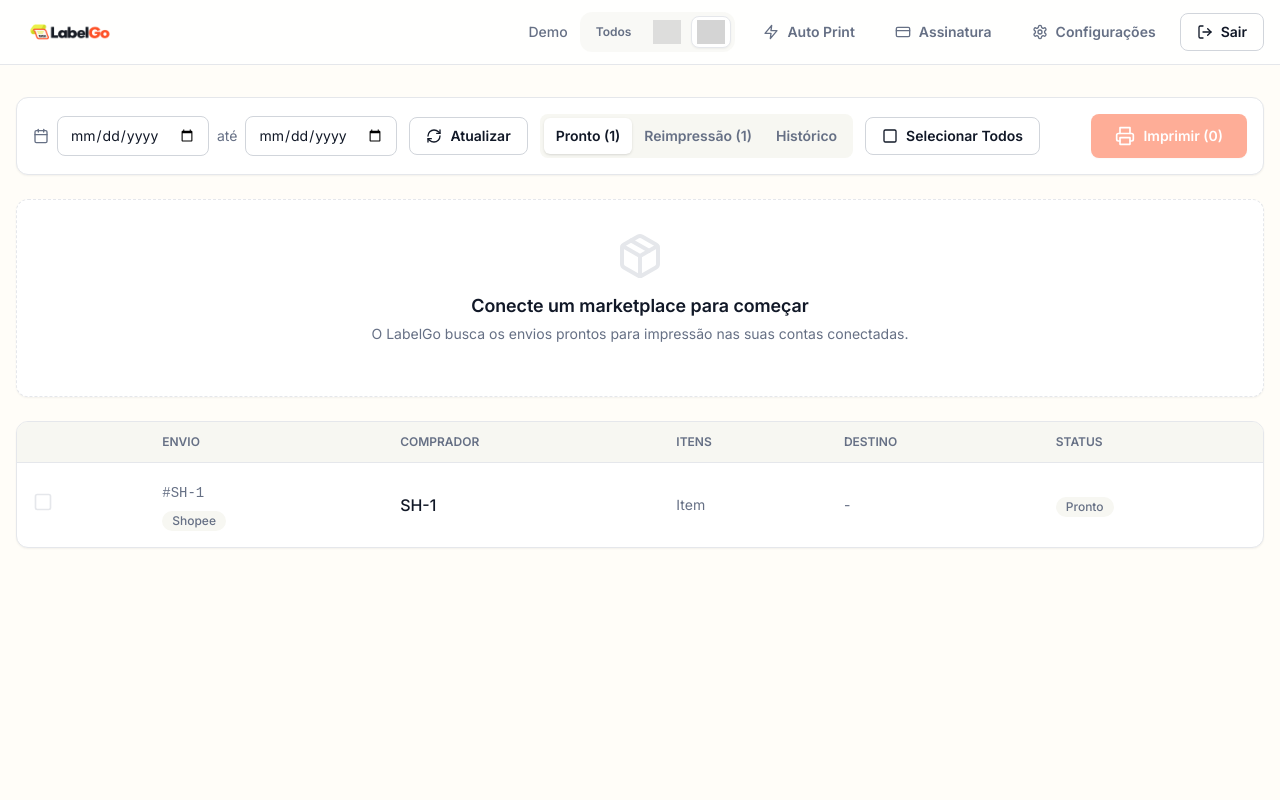
Test case: applies URL filter to ready, reprint and history
What coordinates should you click on to do the following:
click the button "Reimpressão (1)"
I would click on:
 (698, 136)
Its box is [632,118,764,154].
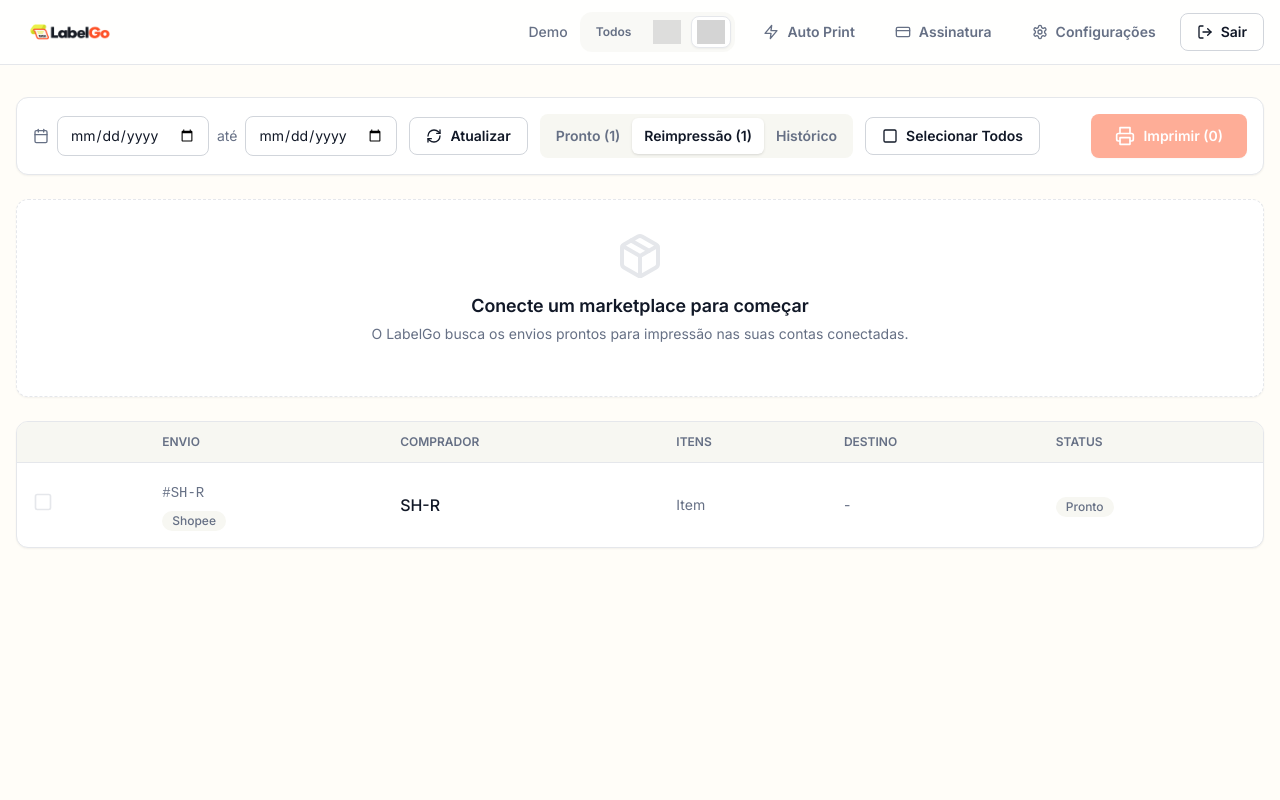
Expected: the text "SH-R" is shown, [384,462,660,547]
What coordinates should you click on to do the following:
click the button "Histórico"
I would click on:
 (807, 136)
Its box is [764,118,849,154].
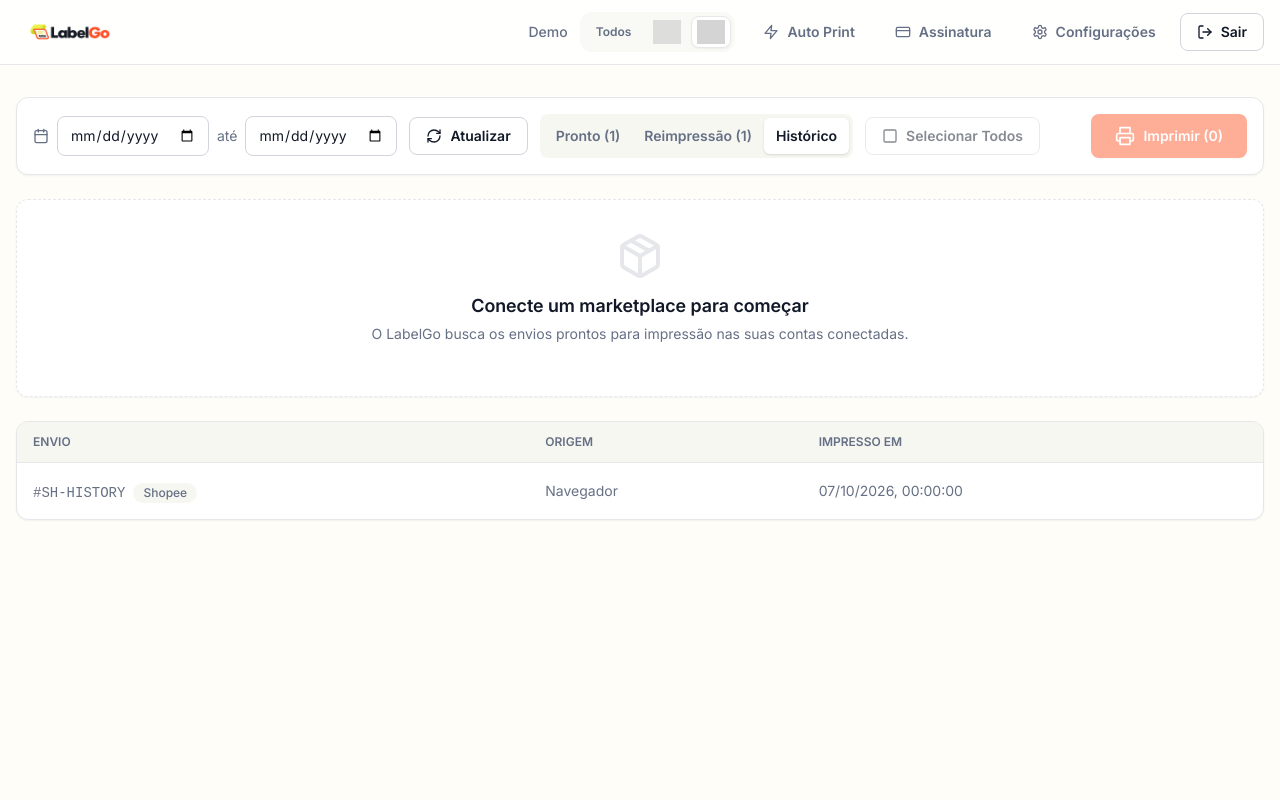
Expected: the text "#SH-HISTORY" is shown, [33,485,125,501]
